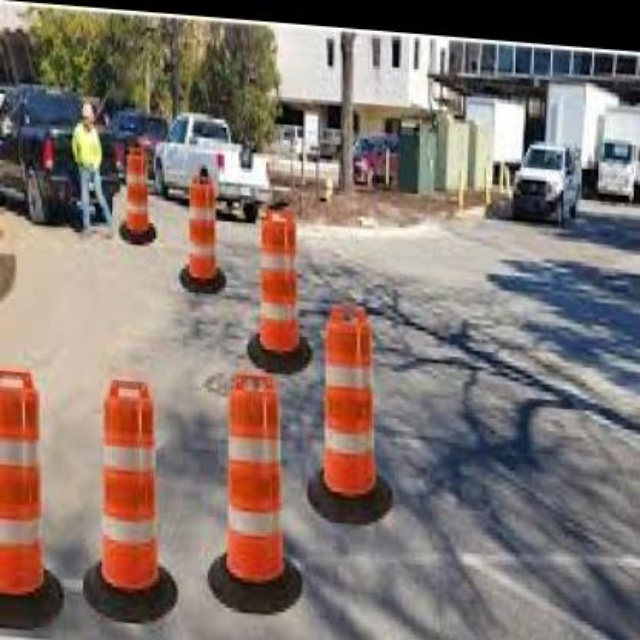obstacle: (95, 373, 160, 599), (223, 362, 285, 588), (320, 286, 376, 493), (258, 204, 299, 347), (181, 171, 216, 279), (125, 137, 154, 236)
